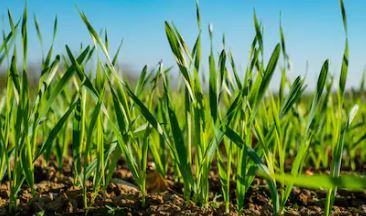Wheat: (57, 33, 286, 144)
